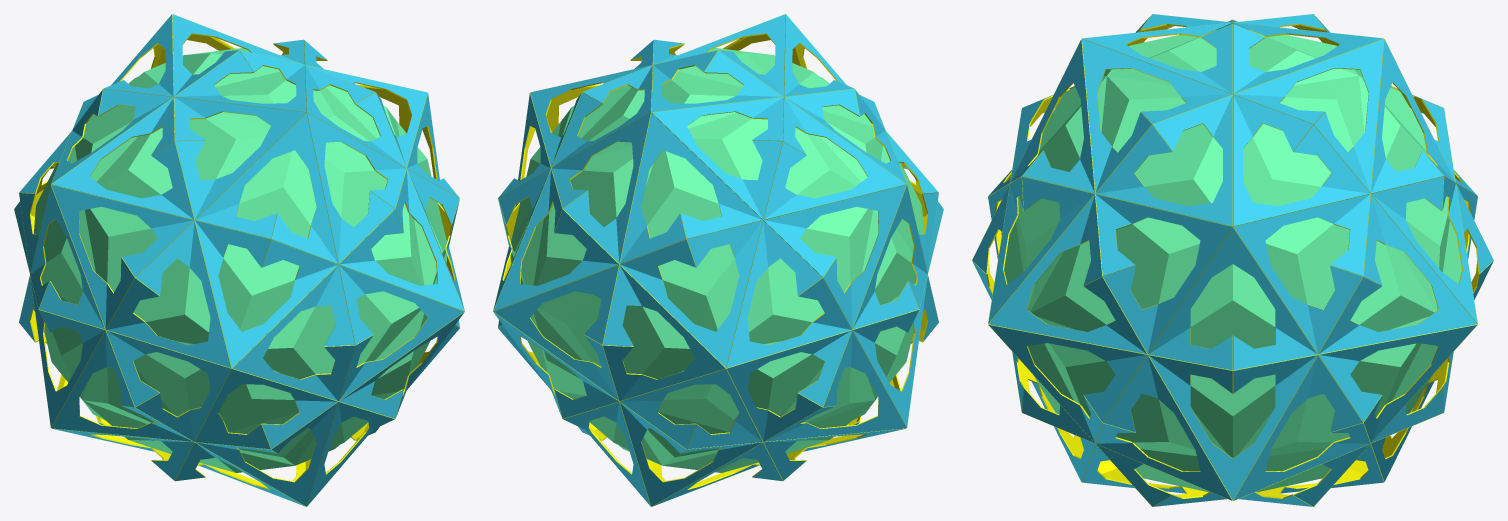
Rendered from MedialDeltoidalHexecontahedronS.glb.
The picture shows the model from 3 angles, left to right: view 1: azimuth 30°, elevation 25°; view 2: azimuth 150°, elevation 25°; view 3: azimuth 270°, elevation 25°; orthographic projection. The views are drawn at different scales.
Visible parts, largest first — view 1: Mesh_0004_1, Mesh_1004, Mesh_0004; view 2: Mesh_0004_1, Mesh_1004, Mesh_0004; view 3: Mesh_0004_1, Mesh_1004, Mesh_0004.
Boxes of the visible parts, x1,y1,x2,y2 form: Mesh_0004_1: [14, 14, 464, 506]; Mesh_1004: [33, 48, 447, 472]; Mesh_0004: [14, 14, 464, 506]; Mesh_0004_1: [493, 14, 943, 506]; Mesh_1004: [510, 48, 924, 472]; Mesh_0004: [493, 14, 943, 506]; Mesh_0004_1: [972, 14, 1493, 506]; Mesh_1004: [1001, 35, 1464, 492]; Mesh_0004: [972, 14, 1493, 506].
Bounding box in the file's own units: 9.39 × 9.39 × 9.39.
